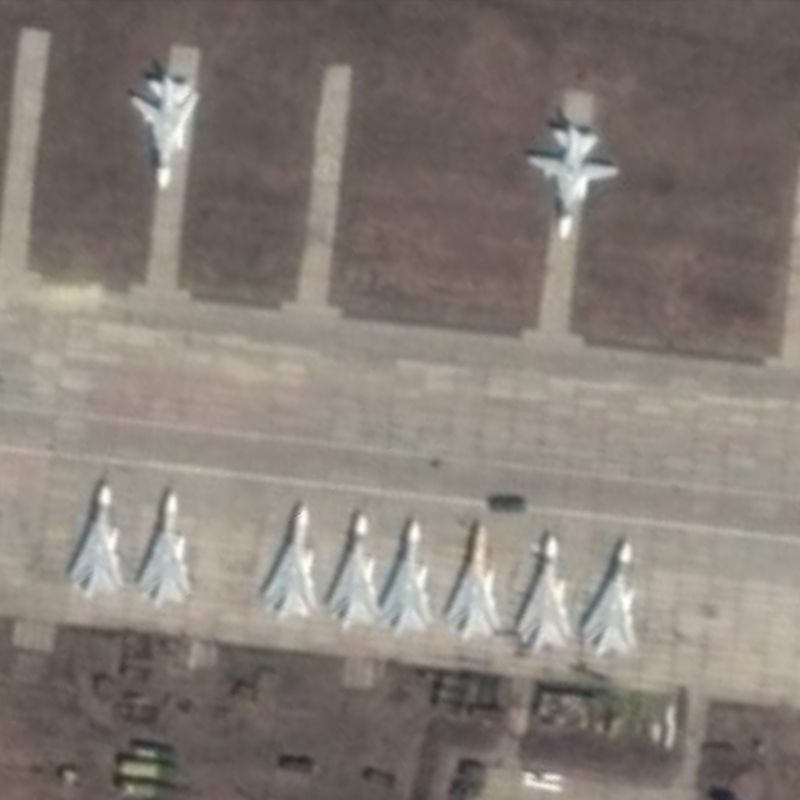A20: (524, 118, 625, 247), (124, 69, 207, 192), (572, 532, 648, 661), (438, 511, 509, 647), (509, 525, 579, 661), (254, 491, 325, 625), (131, 483, 201, 612), (61, 477, 132, 600), (320, 503, 384, 634), (378, 509, 441, 638)
